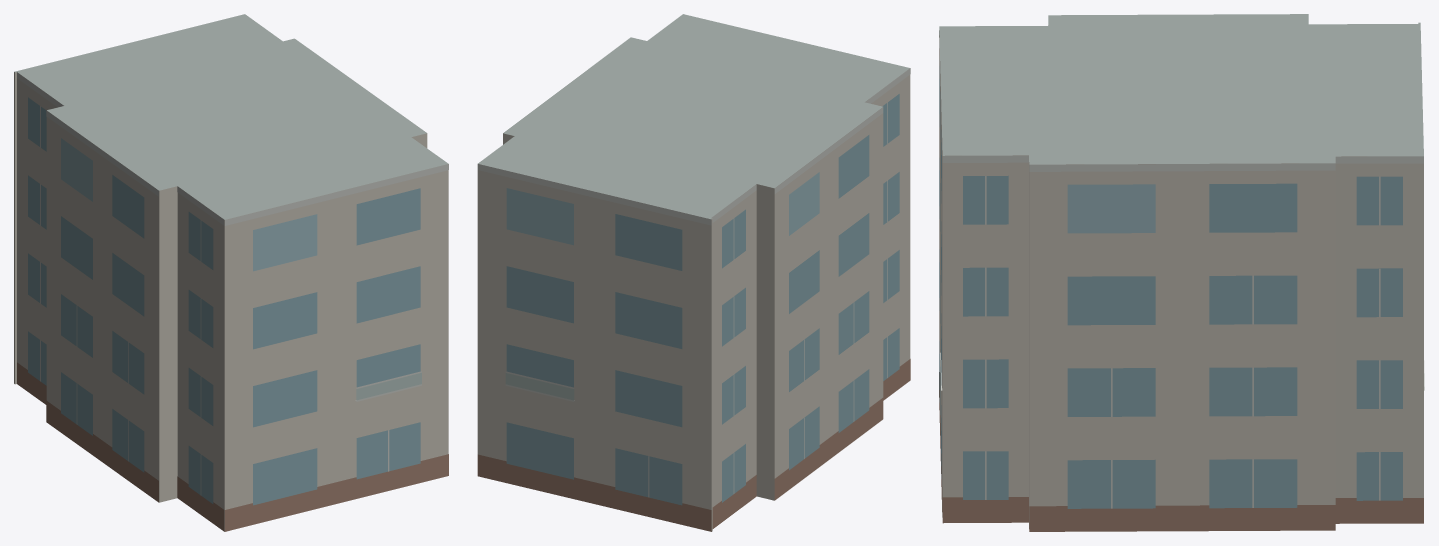
File: survey-upis-32841619.glb
3 renders of one model, left to right at view 1: azimuth 30°, elevation 25°; view 2: azimuth 150°, elevation 25°; view 3: azimuth 270°, elevation 25°, orthographic. The views are drawn at different scales.
Parts seen in each view (by area): view 1: survey-upis-32841619.tmp; view 2: survey-upis-32841619.tmp; view 3: survey-upis-32841619.tmp.
Boxes of the visible parts, x1,y1,x2,y2 form: survey-upis-32841619.tmp: [14, 14, 448, 531]; survey-upis-32841619.tmp: [477, 14, 910, 531]; survey-upis-32841619.tmp: [939, 14, 1424, 531].
Bounding box in the file's own units: 10.74 × 12.2 × 14.63.
